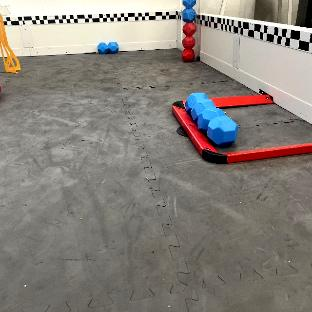V5_BLUE: (185, 92, 237, 145), (183, 0, 195, 21), (108, 43, 118, 53), (98, 43, 108, 53)
V5_RED: (182, 22, 195, 60)
